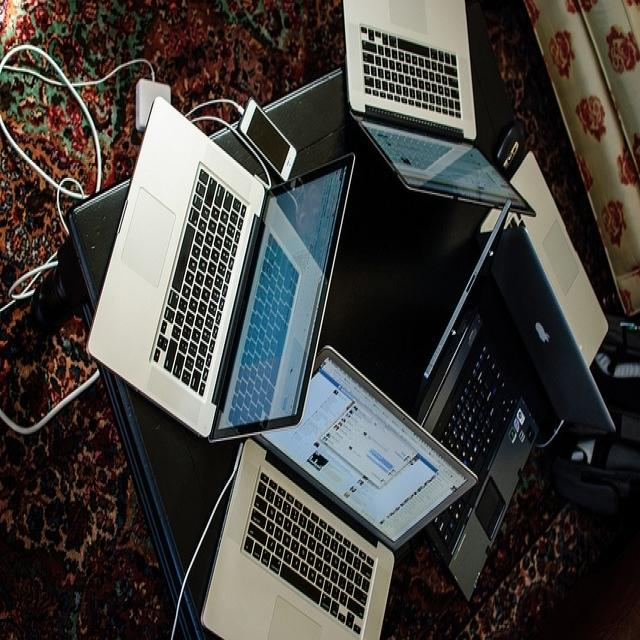Cable: (0, 24, 104, 411)
E-waste: (93, 36, 590, 634)
